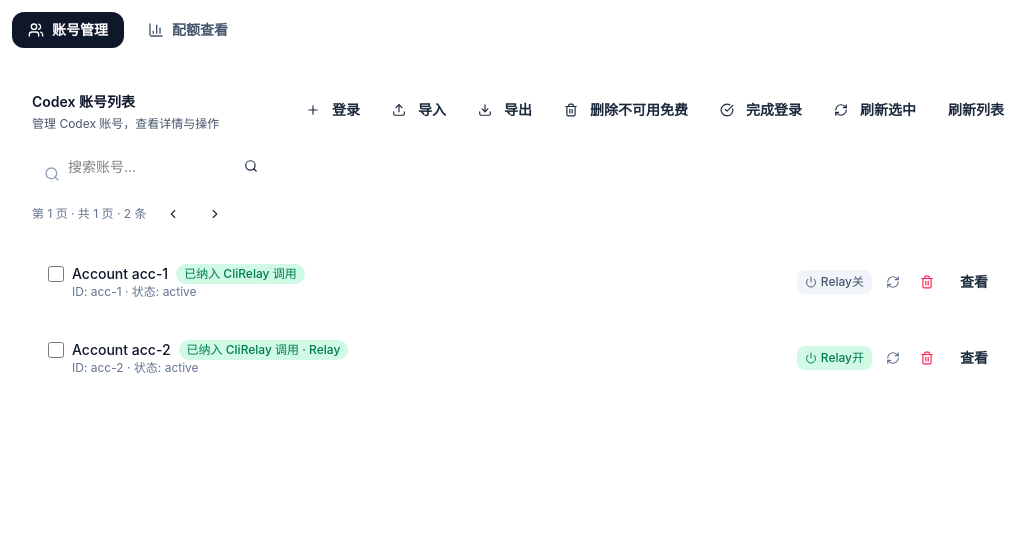
Test: CodexManagerPage action flow wiring › batch refresh result is rendered with success/failure items
The width and height of the screenshot is (1033, 546).
Expected: the button with test id "codex-refresh-selected" is shown, [822,92,928,128]
Click the checkbox next to "Account acc-1" at (56, 274), box [48,266,64,282]
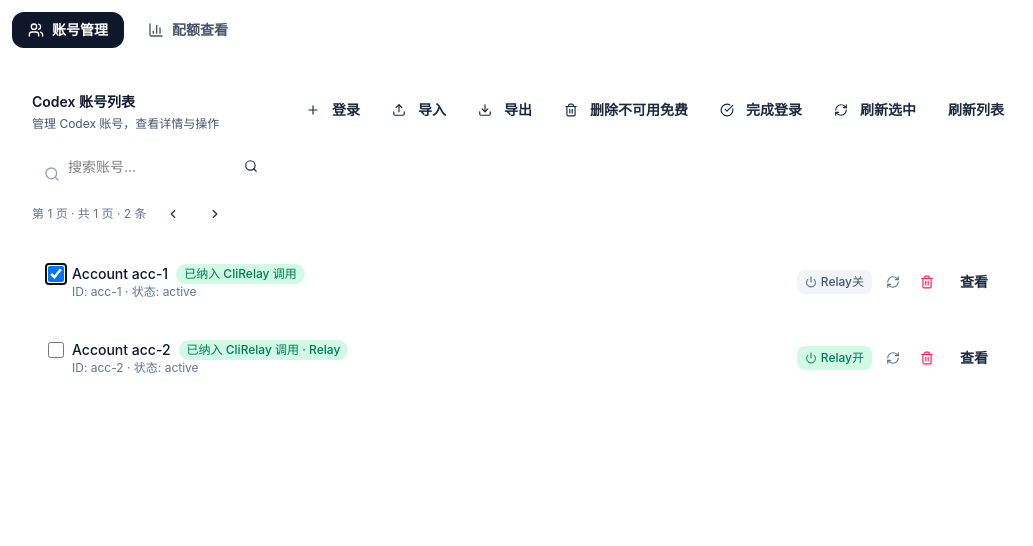
Click the checkbox next to "Account acc-2" at (56, 350), box [48,342,64,358]
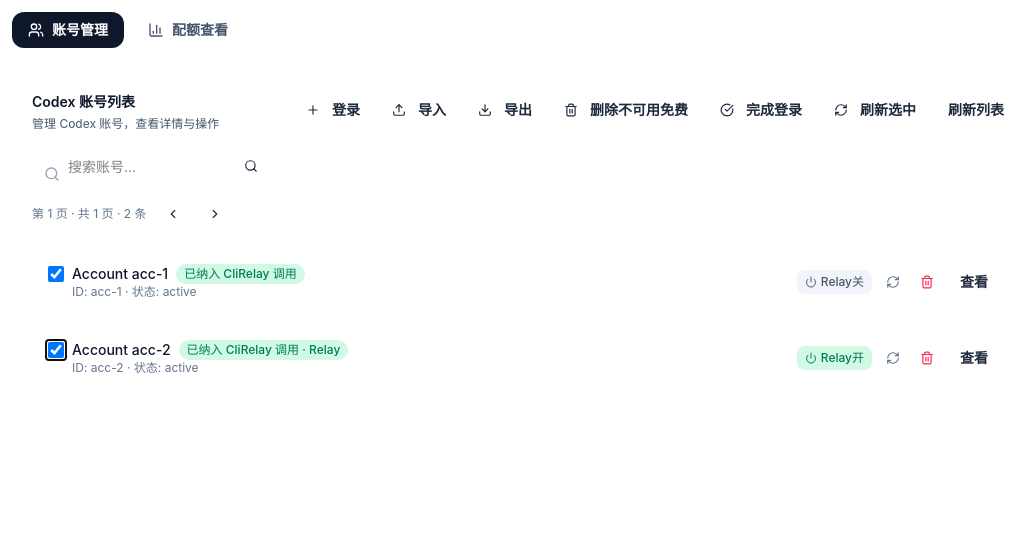
Click the button with test id "codex-refresh-selected" at (875, 110), box [822,92,928,128]
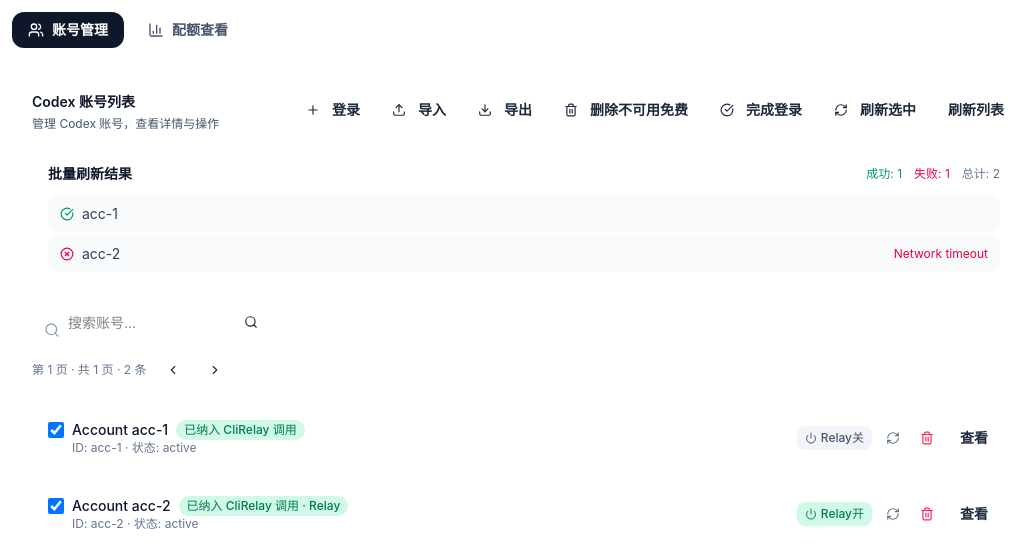
Result: the element with test id "codex-batch-refresh-result" is shown at [32,148,1016,288]
Result: the element with test id "codex-batch-refresh-item-acc-1" is shown at [48,196,1000,232]
Result: the element with test id "codex-batch-refresh-item-acc-2" is shown at [48,236,1000,272]
